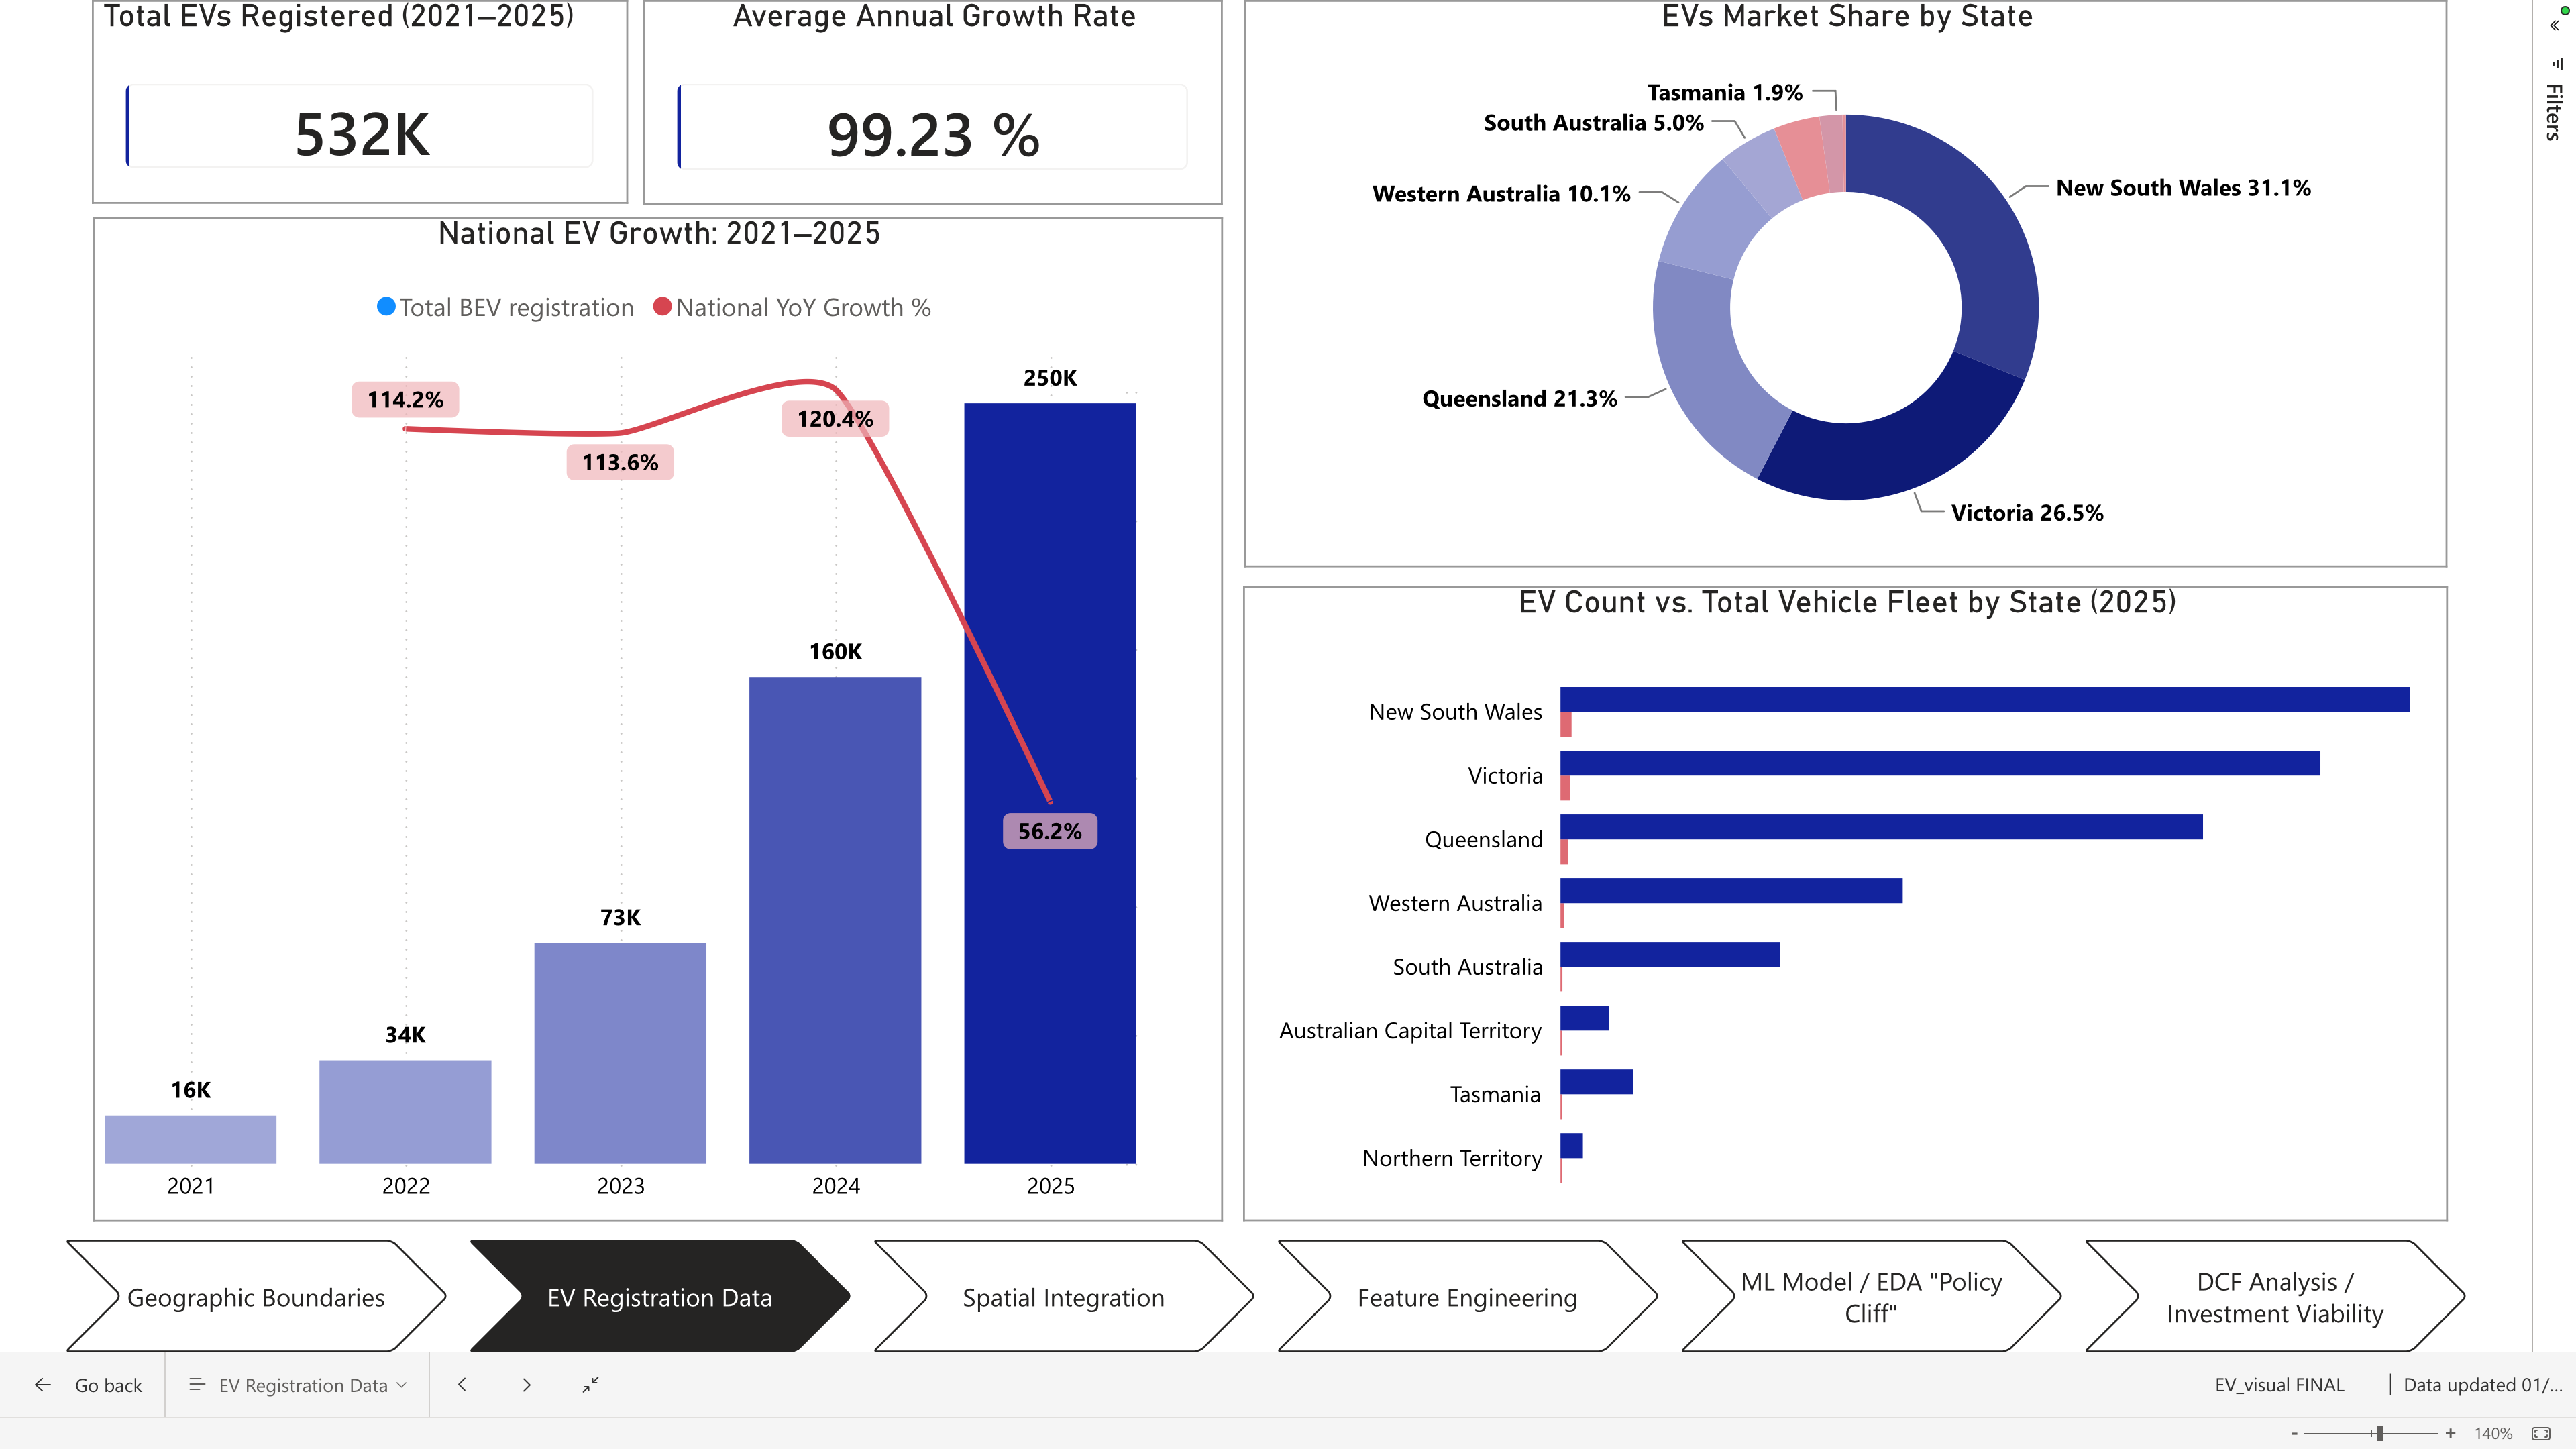

The dashboard page shown, as its layout file describes it:
{"tool":"powerbi","page":{"name":"EV Registration Data","canvas":[1280,720],"ordinal":1},"visuals":[{"type":"lineClusteredColumnComboChart","title":"National EV Growth: 2021–2025","fields":{"Category":["ev_master_charging.year"],"Y":["Sum(ev_master_charging.bev_count)"],"Y2":["ev_master_charging.National YoY Growth %"]},"box":[15.8,116,601.3,534.5],"z":0},{"type":"clusteredBarChart","title":"EV Count vs. Total Vehicle Fleet by State (2025)","fields":{"Category":["ev_master_charging.STE_NAME21"],"Y":["Sum(ev_master_charging.bev_count)","Sum(ev_master_charging.total_fleet)"]},"box":[628.1,311.9,641.3,338.2],"z":1000},{"type":"donutChart","title":"EVs Market Share by State","fields":{"Category":["ev_master_charging.STE_NAME21"],"Y":["Sum(ev_master_charging.bev_count)"]},"box":[628.6,0,640.5,301.9],"z":2000},{"type":"cardVisual","title":"Total EVs Registered (2021–2025)","fields":{"Data":["Sum(ev_master_charging.bev_count)"]},"box":[15.3,0,285.3,108.3],"z":3000},{"type":"cardVisual","title":"Average Annual Growth Rate","fields":{"Data":["ev_master_charging.National CAGR 2021-2025"]},"box":[308.3,0,308.3,108.8],"z":4000},{"type":"pageNavigator","box":[0,659.6,1280,60.6],"z":5000}]}

Visuals, with their boxes on the page's 1280x720 design canvas (x1, y1, x2, y2). These are canvas units, not pixel positions in the 2576x1449 screenshot, which may show the page scaled, cropped or inside an application window:
"National EV Growth: 2021–2025" lineClusteredColumnComboChart: <box>16,116,617,650</box>
"EV Count vs. Total Vehicle Fleet by State (2025)" clusteredBarChart: <box>628,312,1269,650</box>
"EVs Market Share by State" donutChart: <box>629,0,1269,302</box>
"Total EVs Registered (2021–2025)" cardVisual: <box>15,0,301,108</box>
"Average Annual Growth Rate" cardVisual: <box>308,0,617,109</box>
pageNavigator: <box>0,660,1280,720</box>
